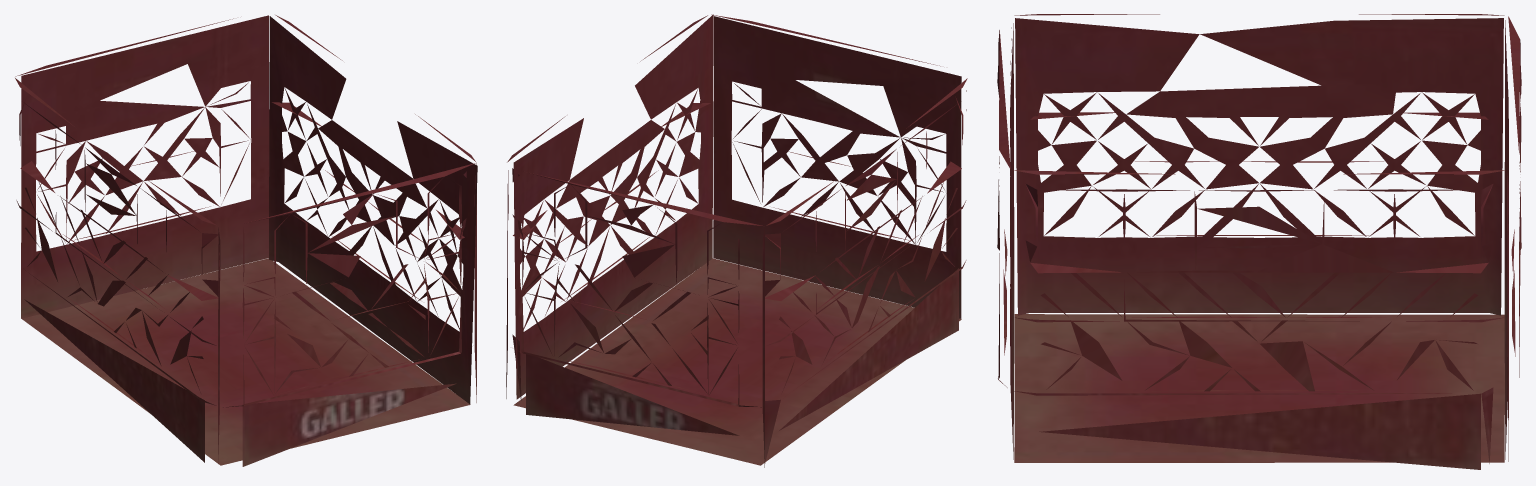
File: crate.glb
3 views of the same model, side by side, from view 1: azimuth 30°, elevation 25°; view 2: azimuth 150°, elevation 25°; view 3: azimuth 270°, elevation 25° (orthographic). The views are drawn at different scales.
Parts seen in each view (by area): view 1: crate; view 2: crate; view 3: crate.
Part boxes in pixels (<box>): crate: <box>15,15,477,466</box>; crate: <box>506,14,967,467</box>; crate: <box>997,14,1521,469</box>.
Bounding box in the file's own units: 0.299 × 0.2642 × 0.4122.
Materials: 1 (1 with a texture image).
